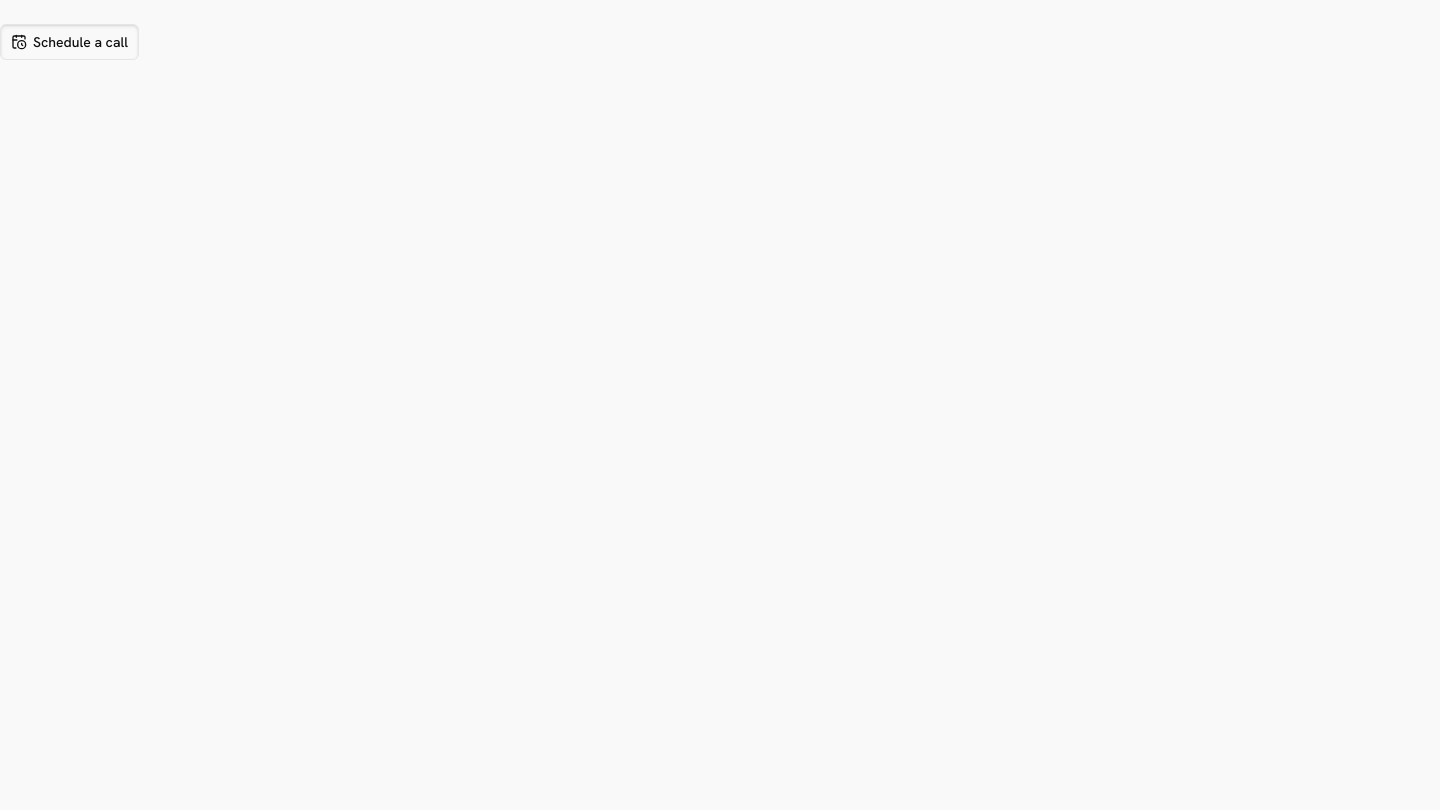
it: CalBooking › closes from the close button and unmounts the embed
Click the button "Schedule a call": (70, 42) [0,24,139,60]
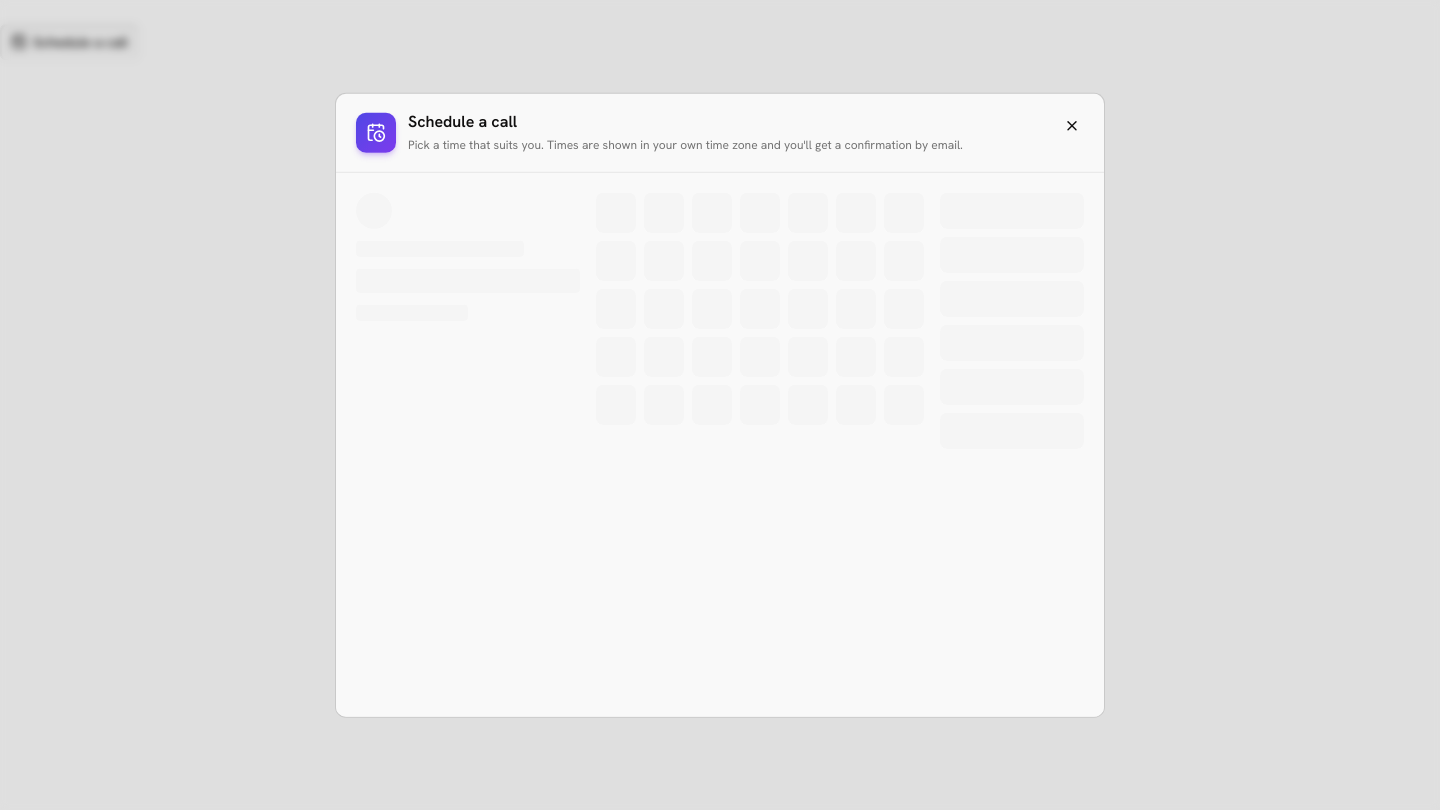
Click the button named "Close": (1072, 126) [1056,110,1088,142]
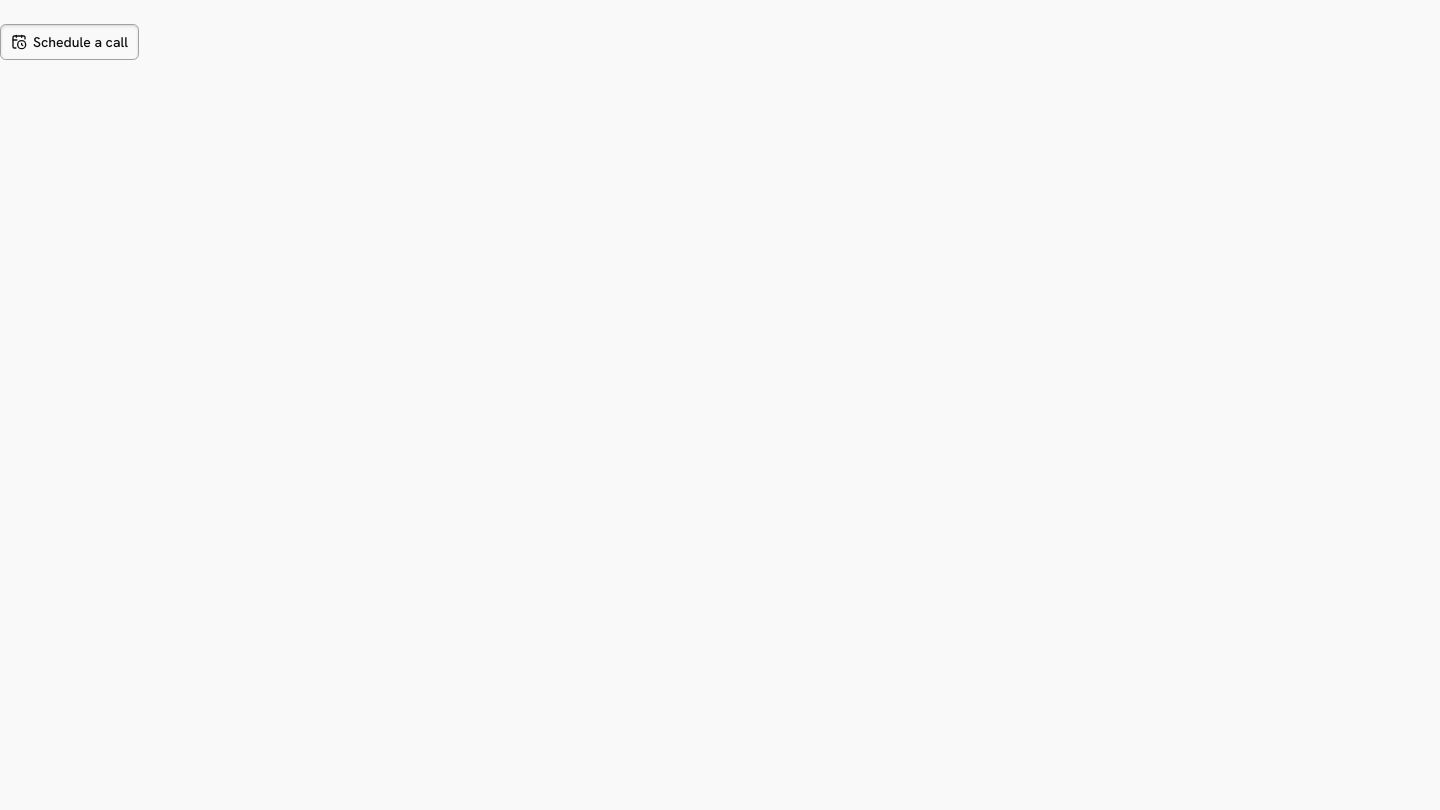
expect the dialog is gone: met
